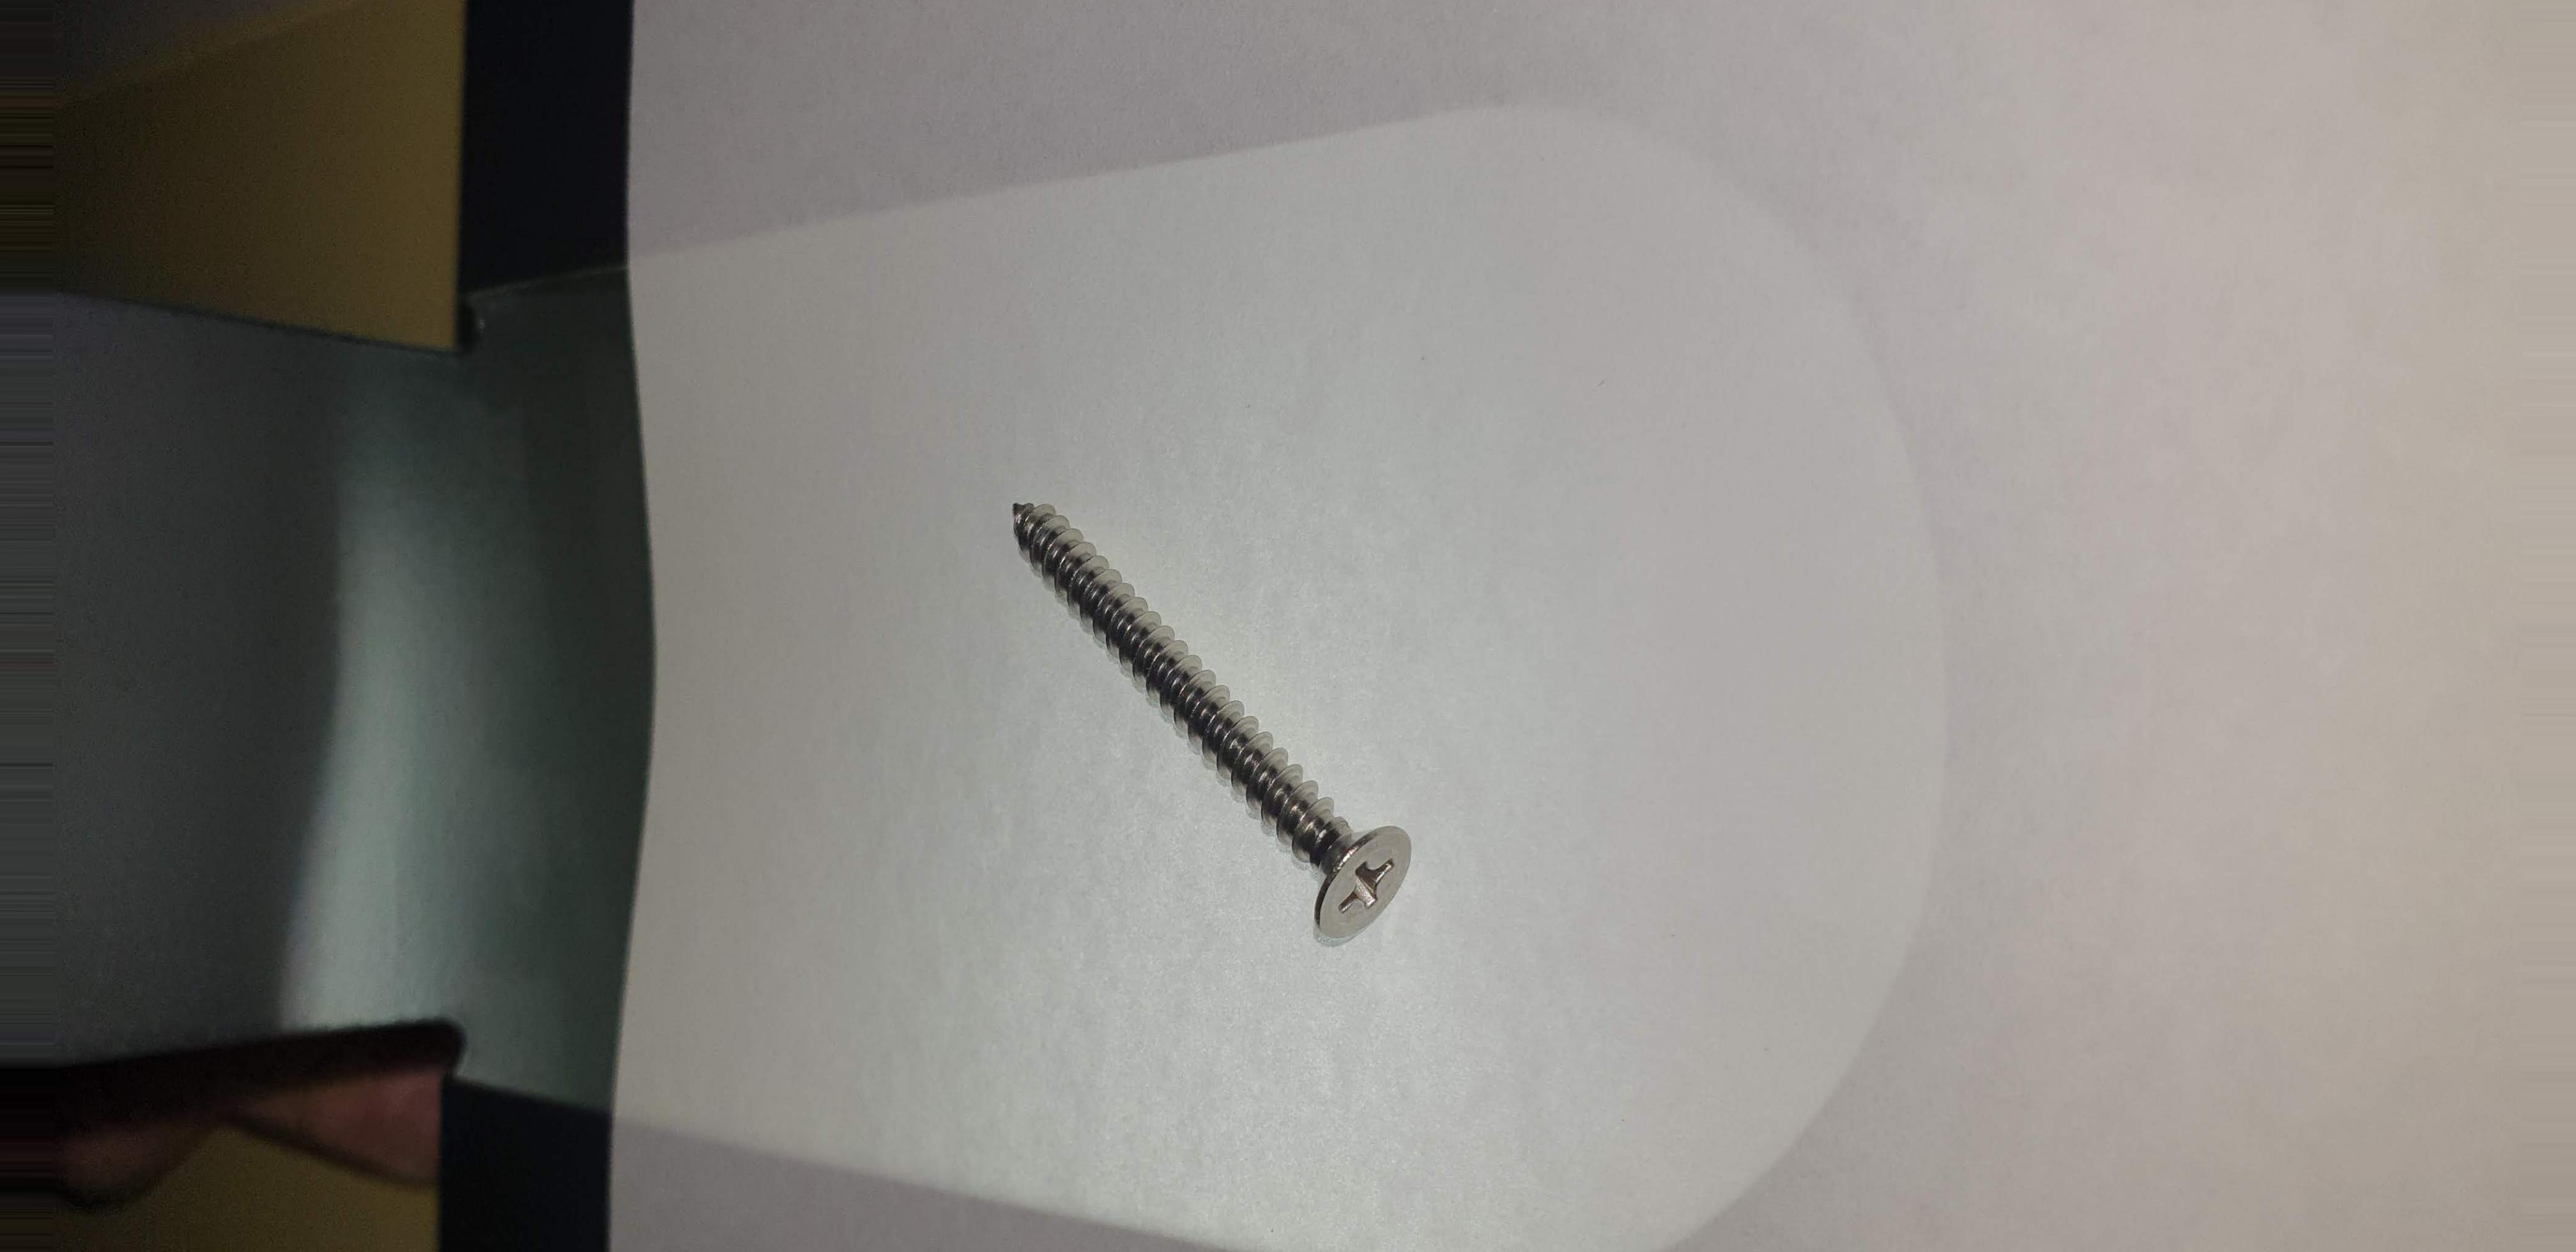fastener: (954, 445, 1521, 984)
